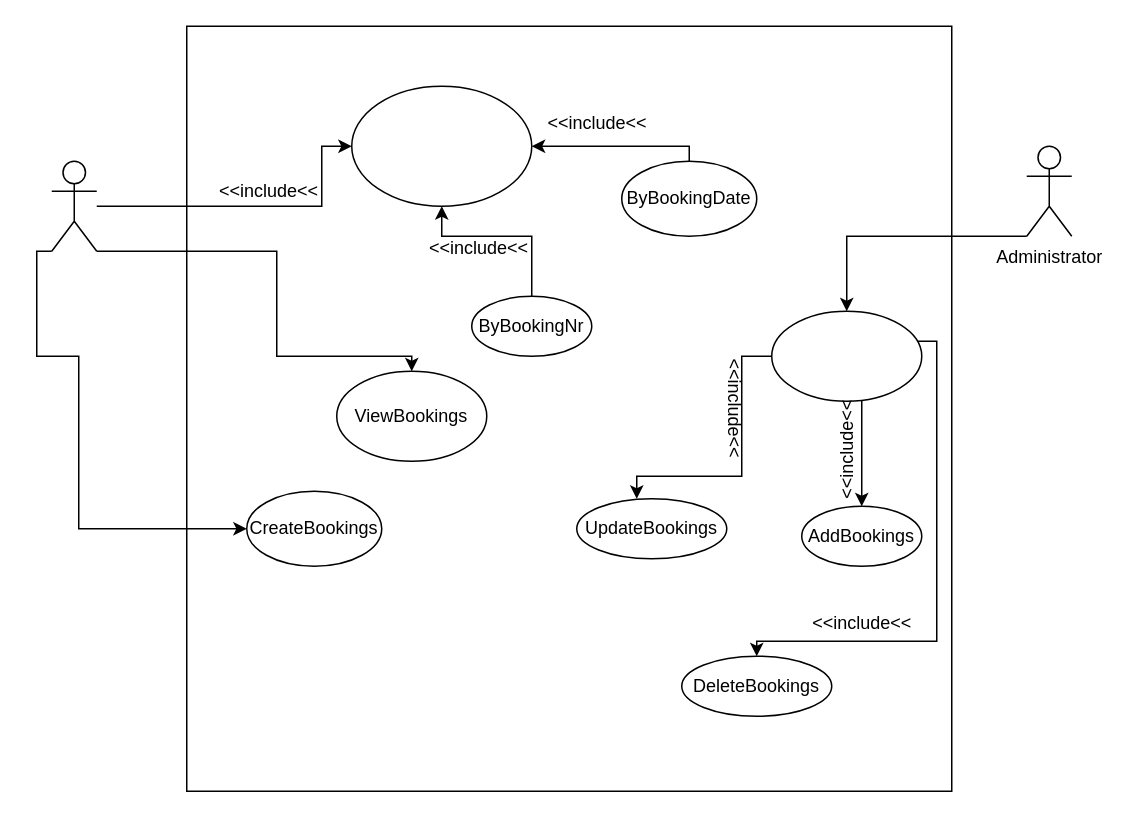
Some shapes in this 1128 by 818 pixel diagram are drawn without their labels. Each missing label, with the box of its shape:
End-user: (50, 160, 97, 251)
ManageBookings: (770, 310, 922, 401)
SearchTheBookings: (350, 85, 532, 206)
